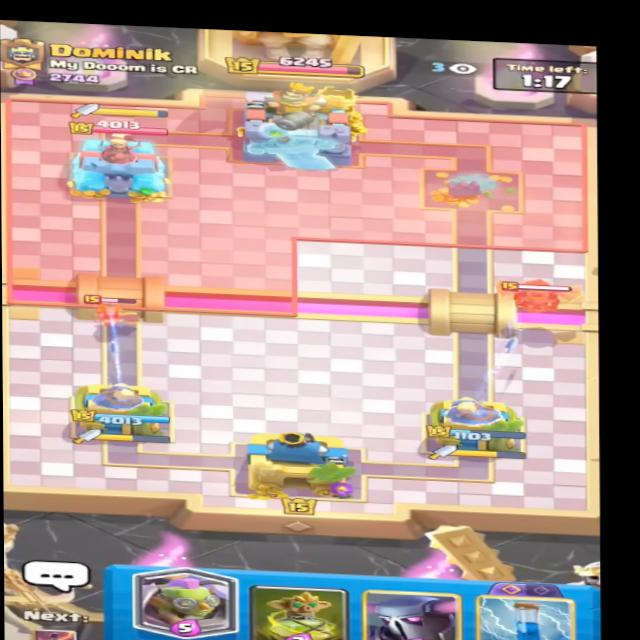Lavahound: (484, 268, 588, 316)
Valk: (74, 288, 141, 330)
